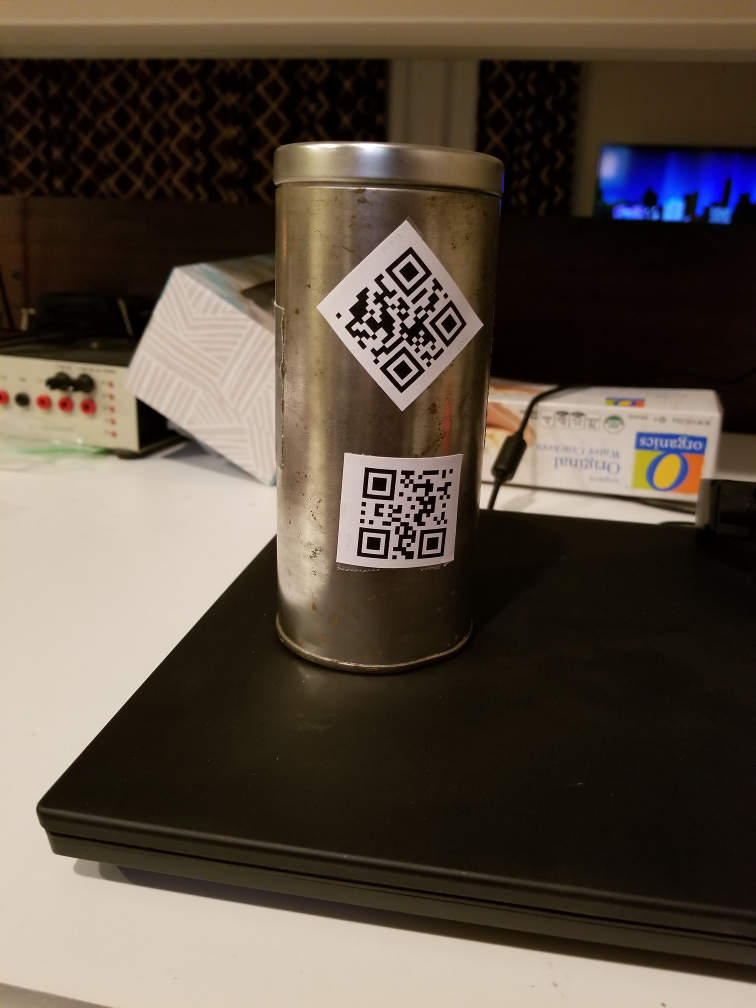QR_CODE: (323, 235, 476, 403), (345, 453, 462, 568)
